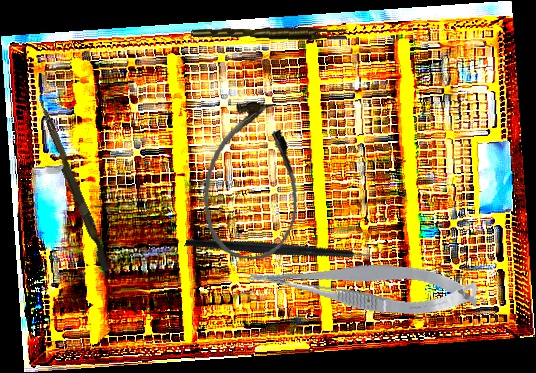Cannula: (197, 97, 309, 264)
Chopper: (183, 168, 388, 323)
Micro Scissor: (245, 237, 481, 331)
Pusher: (31, 97, 115, 273)
Tissue Forceps: (191, 21, 348, 45)
